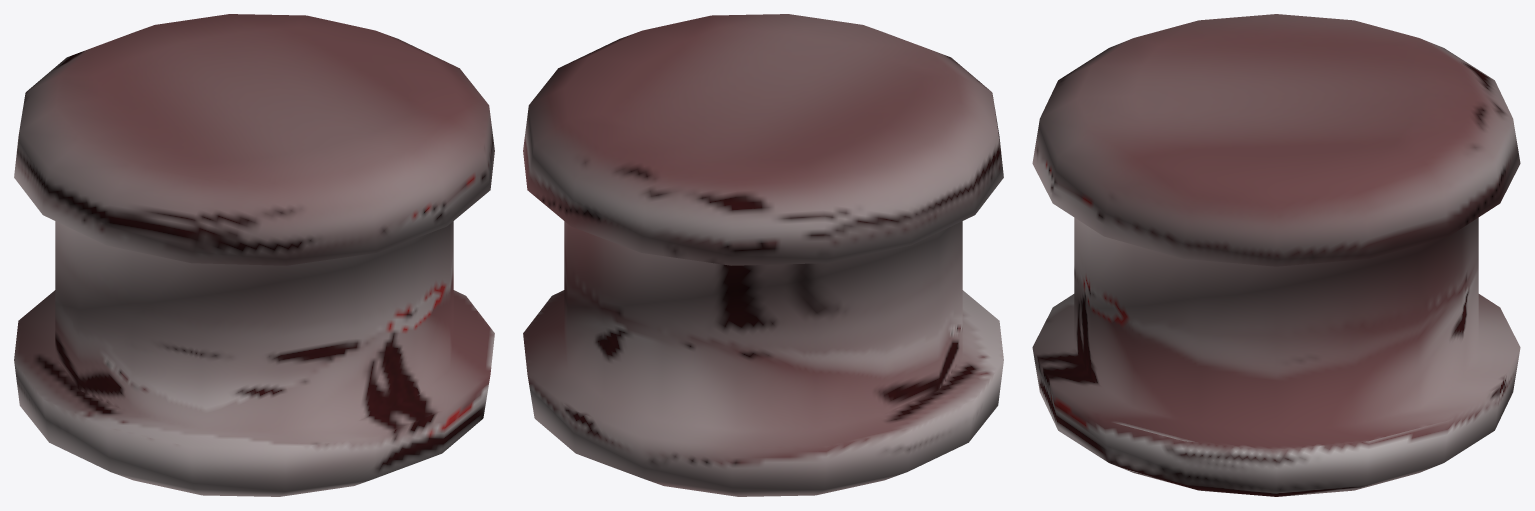
The model's file is Scissors_Axis.fbx.
3 views of the same model, side by side, from view 1: azimuth 30°, elevation 25°; view 2: azimuth 150°, elevation 25°; view 3: azimuth 270°, elevation 25° (orthographic).
Parts seen in each view (by area): view 1: Scissors_Axis_Maps; view 2: Scissors_Axis_Maps; view 3: Scissors_Axis_Maps.
Boxes of the visible parts, bbox=[...] form: Scissors_Axis_Maps: bbox=[14, 14, 494, 496]; Scissors_Axis_Maps: bbox=[523, 14, 1003, 496]; Scissors_Axis_Maps: bbox=[1032, 14, 1520, 496].
Size of the model in its own units: 0.00592 by 0.00428 by 0.00592.
